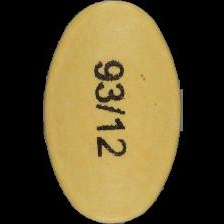63629-3353: (0, 0, 224, 224)
